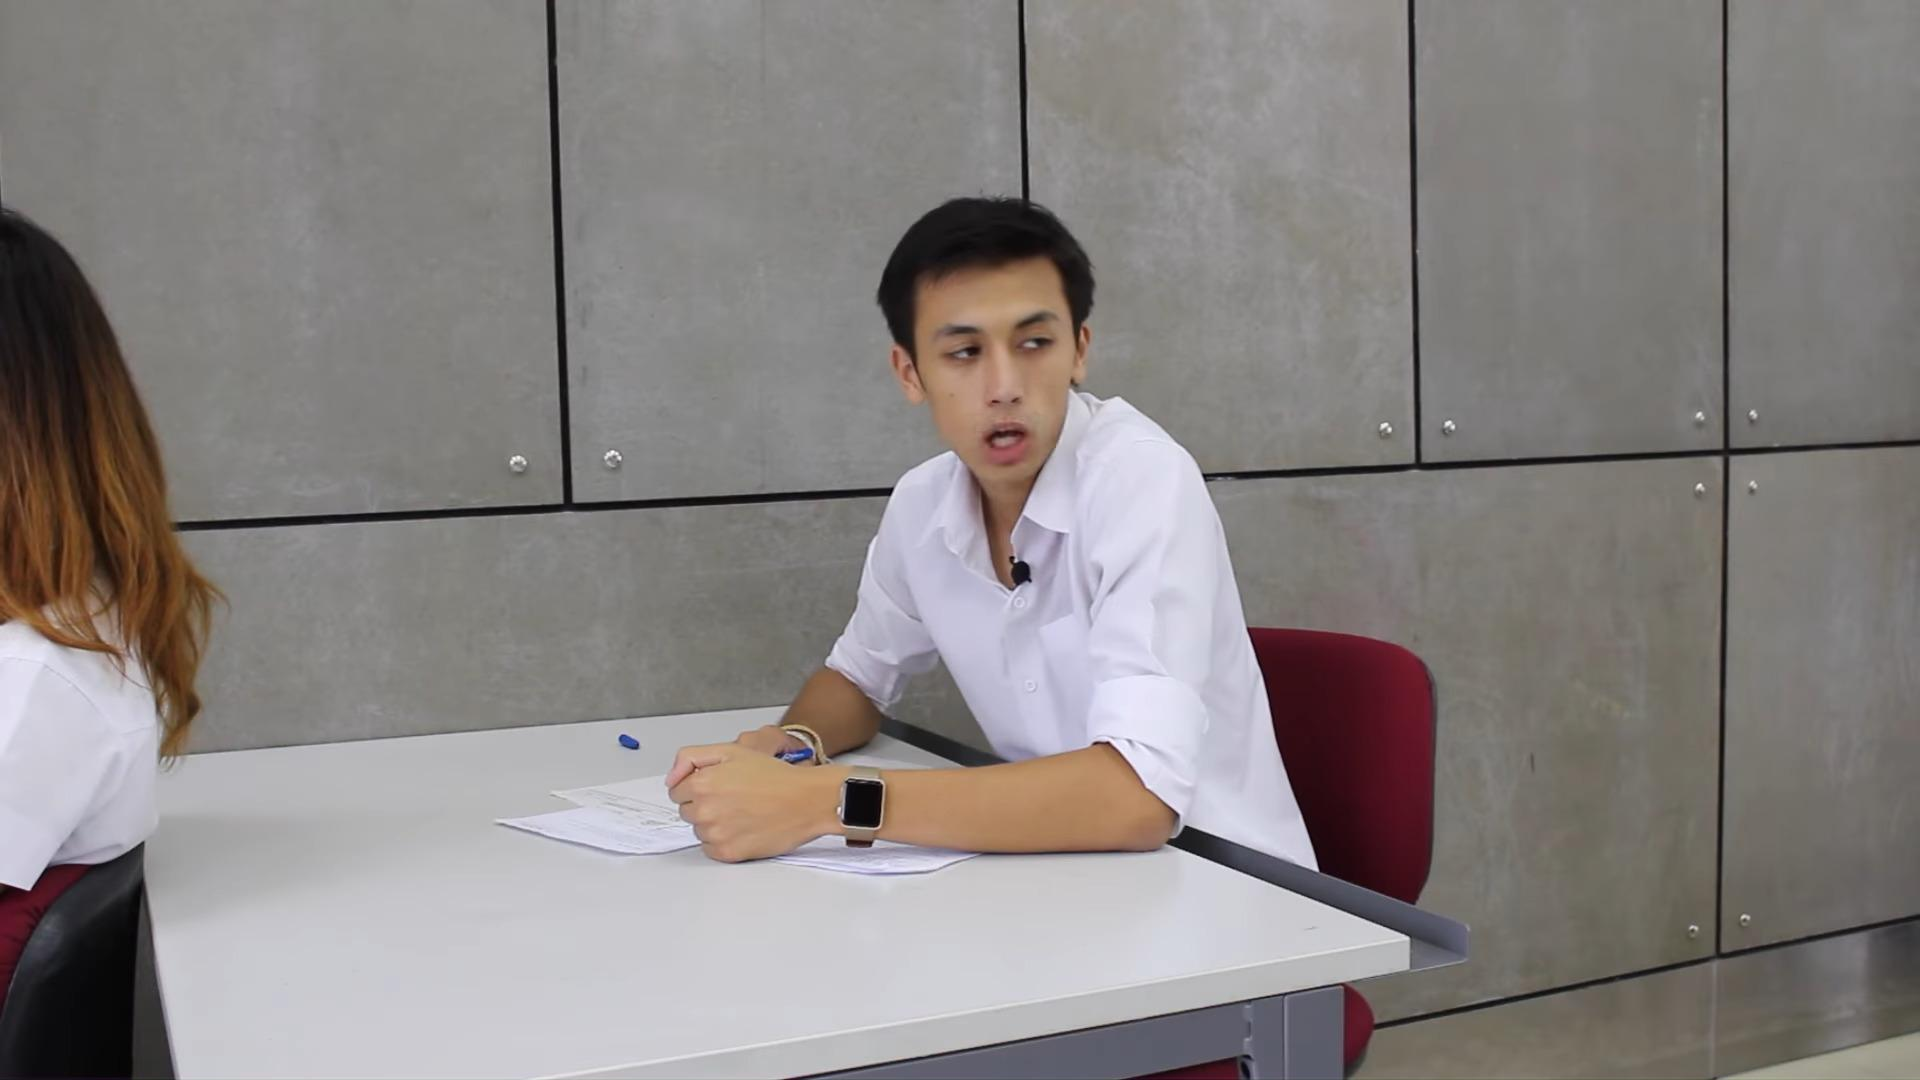cheating: (477, 141, 1370, 930)
